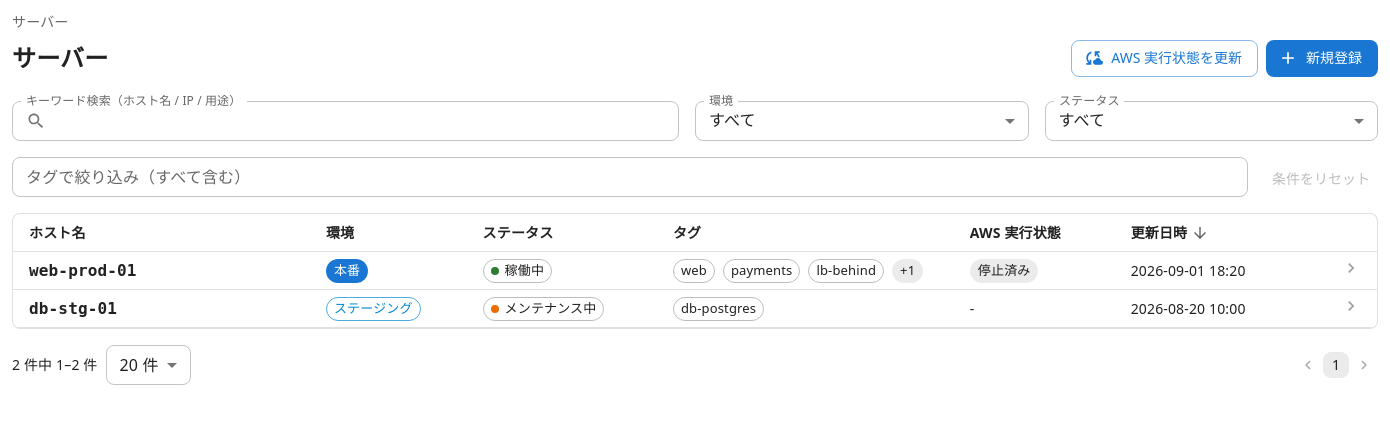
Test: ServerListPage › 環境フィルタを変えると URL に env= が付く
This screenshot has width=1390, height=426.
expect the text "web-prod-01" is shown: met, box [29,261,137,280]
Click the dropdown named "環境" at (732, 120), box [709,109,756,131]
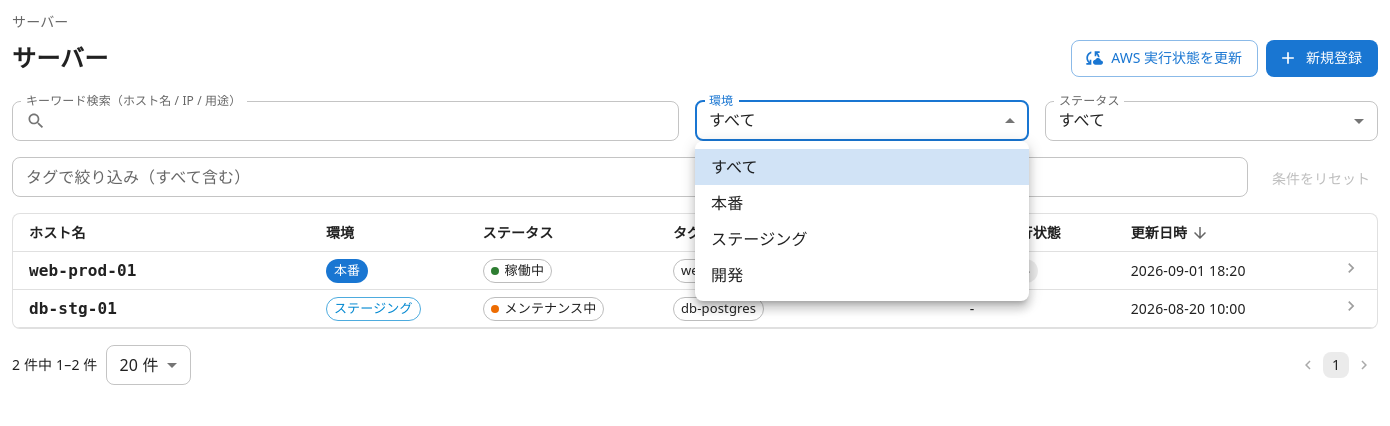
Click the option "本番" at (727, 203), box [711,192,743,214]
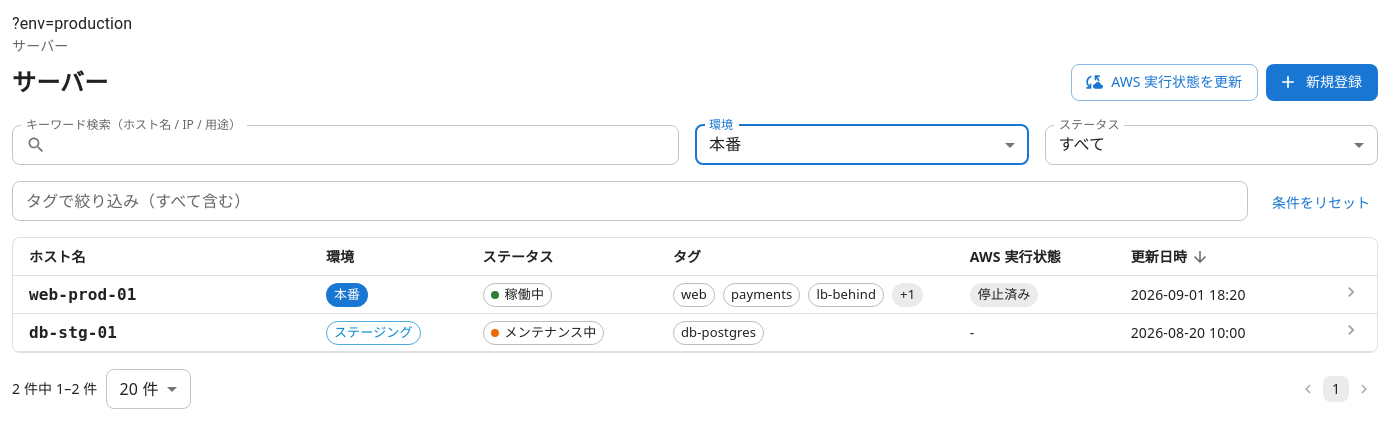
expect the text with test id "location-search" shows "env=production": met, box [12,14,132,33]
